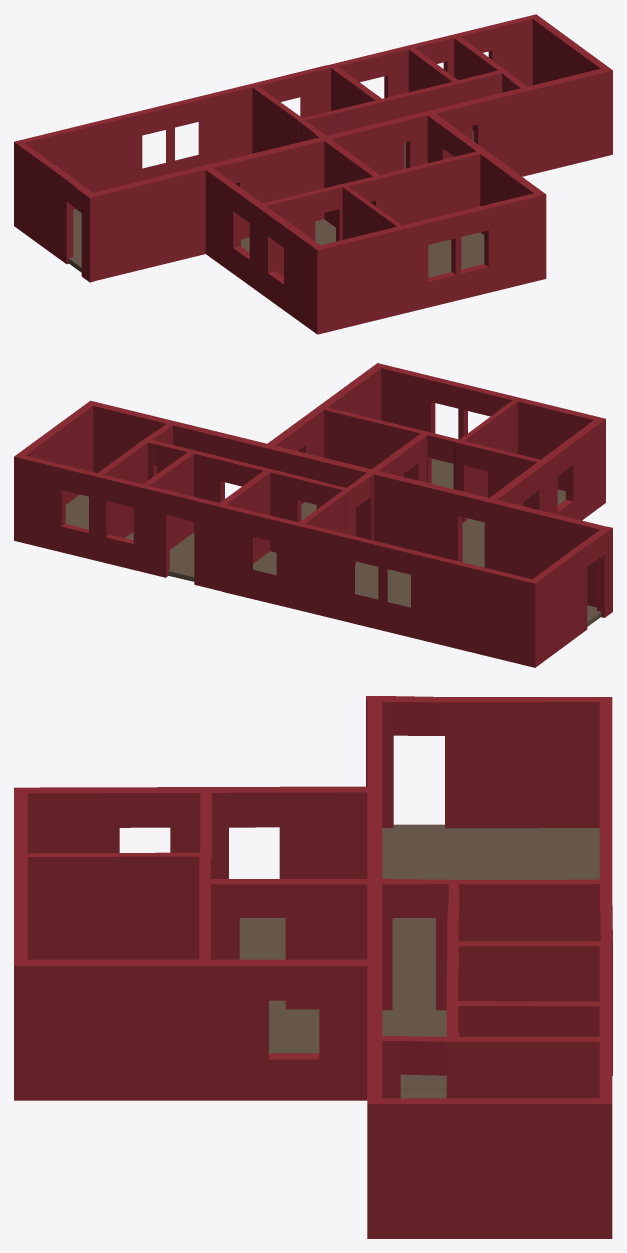
File: HouseUnchanged.fbx
3 renders of one model, top to bottom at view 1: azimuth 30°, elevation 25°; view 2: azimuth 150°, elevation 25°; view 3: azimuth 270°, elevation 25°, orthographic. The views are drawn at different scales.
Parts seen in each view (by area): view 1: Plane.003, Plane.020, Plane.009, Plane.021, Plane.016, Plane.031, Plane.014, Plane.005, Plane.011, Plane.012, Plane.029, Plane.026 (+22 smaller); view 2: Plane.003, Plane.011, Plane.021, Plane.001, Plane.009, Plane.051, Plane.005, Plane.035, Plane.020, Plane.045, Plane.014, Plane.016 (+26 smaller); view 3: Plane.023, Plane.033, Plane.005, Plane.001, Plane.018, Plane.012, Plane.024, Plane.014, Plane.054, Plane.037, Plane.050, Plane.044 (+19 smaller).
Boxes of the visible parts, left/top/right/bottom form: Plane.003: left=21, top=84, right=252, bottom=209; Plane.020: left=402, top=193, right=538, bottom=312; Plane.009: left=93, top=166, right=205, bottom=280; Plane.021: left=347, top=116, right=533, bottom=225; Plane.016: left=321, top=227, right=399, bottom=332; Plane.031: left=527, top=69, right=605, bottom=174; Plane.014: left=258, top=206, right=324, bottom=334; Plane.005: left=18, top=143, right=91, bottom=278; Plane.011: left=209, top=137, right=324, bottom=239; Plane.012: left=205, top=168, right=261, bottom=289; Plane.029: left=431, top=88, right=525, bottom=176; Plane.026: left=327, top=112, right=427, bottom=174; Plane.003: left=301, top=524, right=531, bottom=665; Plane.011: left=374, top=471, right=488, bottom=562; Plane.021: left=275, top=368, right=456, bottom=483; Plane.001: left=65, top=458, right=601, bottom=626; Plane.009: left=492, top=500, right=604, bottom=607; Plane.051: left=222, top=505, right=298, bottom=609; Plane.005: left=533, top=529, right=608, bottom=664; Plane.035: left=21, top=455, right=97, bottom=559; Plane.020: left=381, top=365, right=516, bottom=463; Plane.045: left=145, top=486, right=218, bottom=589; Plane.014: left=541, top=417, right=605, bottom=520; Plane.016: left=520, top=399, right=597, bottom=490; Plane.023: left=27, top=959, right=367, bottom=1100; Plane.033: left=382, top=1098, right=599, bottom=1238; Plane.005: left=381, top=696, right=599, bottom=828; Plane.001: left=239, top=824, right=599, bottom=1098; Plane.018: left=27, top=852, right=200, bottom=959; Plane.012: left=212, top=786, right=367, bottom=878; Plane.024: left=210, top=879, right=367, bottom=1009; Plane.014: left=14, top=787, right=200, bottom=853; Plane.054: left=459, top=879, right=599, bottom=941; Plane.037: left=459, top=1037, right=599, bottom=1098; Plane.050: left=458, top=941, right=599, bottom=1001; Plane.044: left=458, top=1001, right=599, bottom=1036.
Bounding box in the file's own units: 905 × 139 × 562.
